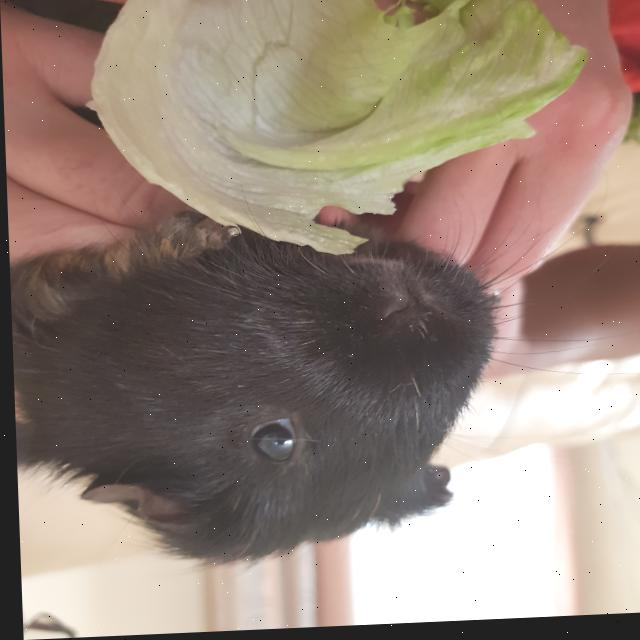guinea pig: (6, 199, 504, 581)
